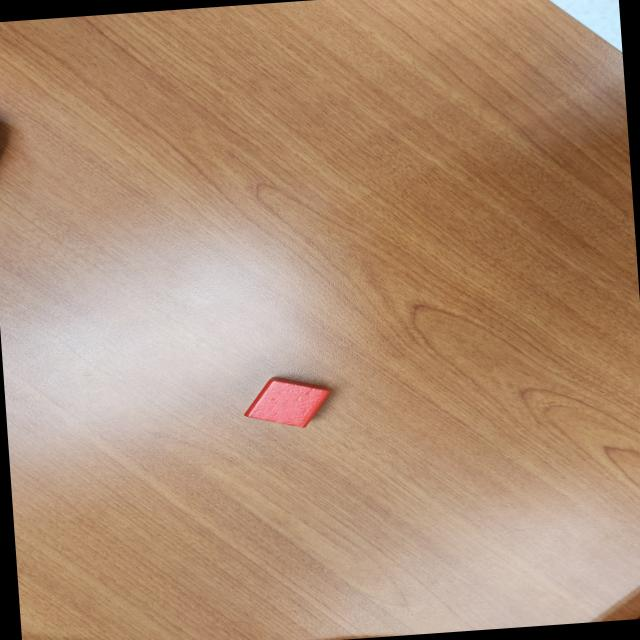red: (242, 372, 334, 432)
